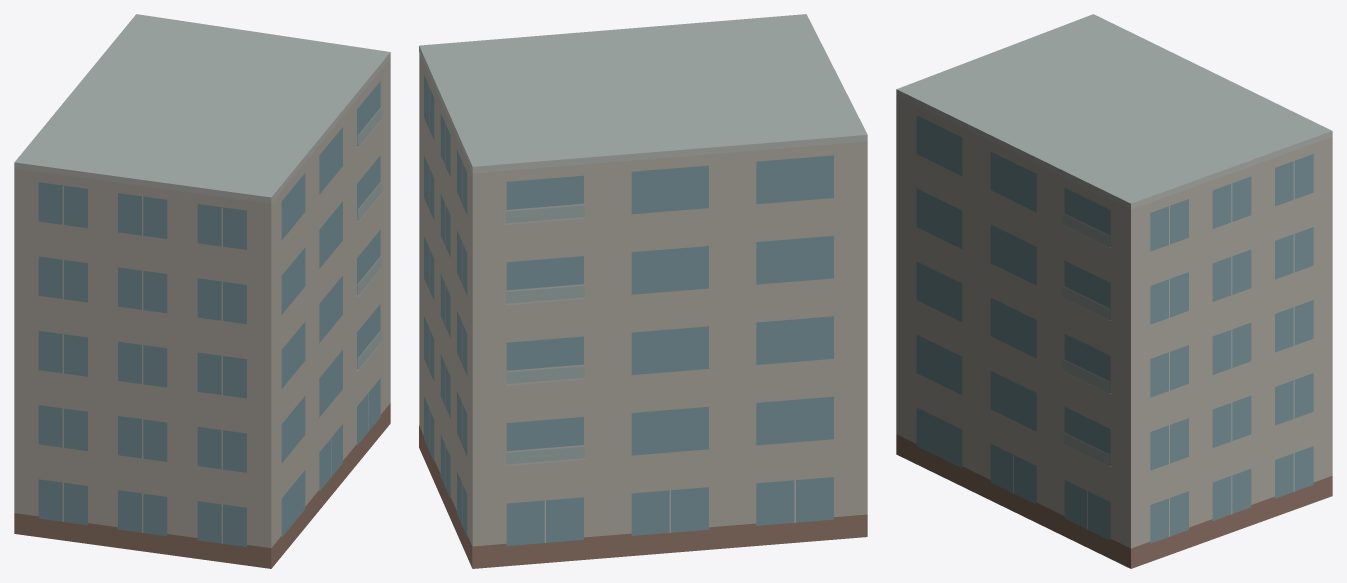
Rendered from survey-upis-32882472.glb.
3 renders of one model, left to right at view 1: azimuth 30°, elevation 25°; view 2: azimuth 150°, elevation 25°; view 3: azimuth 270°, elevation 25°, orthographic. The views are drawn at different scales.
Visible parts, largest first — view 1: survey-upis-32882472.tmp; view 2: survey-upis-32882472.tmp; view 3: survey-upis-32882472.tmp.
Boxes of the visible parts, <box> form: survey-upis-32882472.tmp: <box>14,14,390,568</box>; survey-upis-32882472.tmp: <box>419,14,867,568</box>; survey-upis-32882472.tmp: <box>896,14,1332,568</box>.
Bounding box in the file's own units: 16.55 × 14.85 × 16.08.
